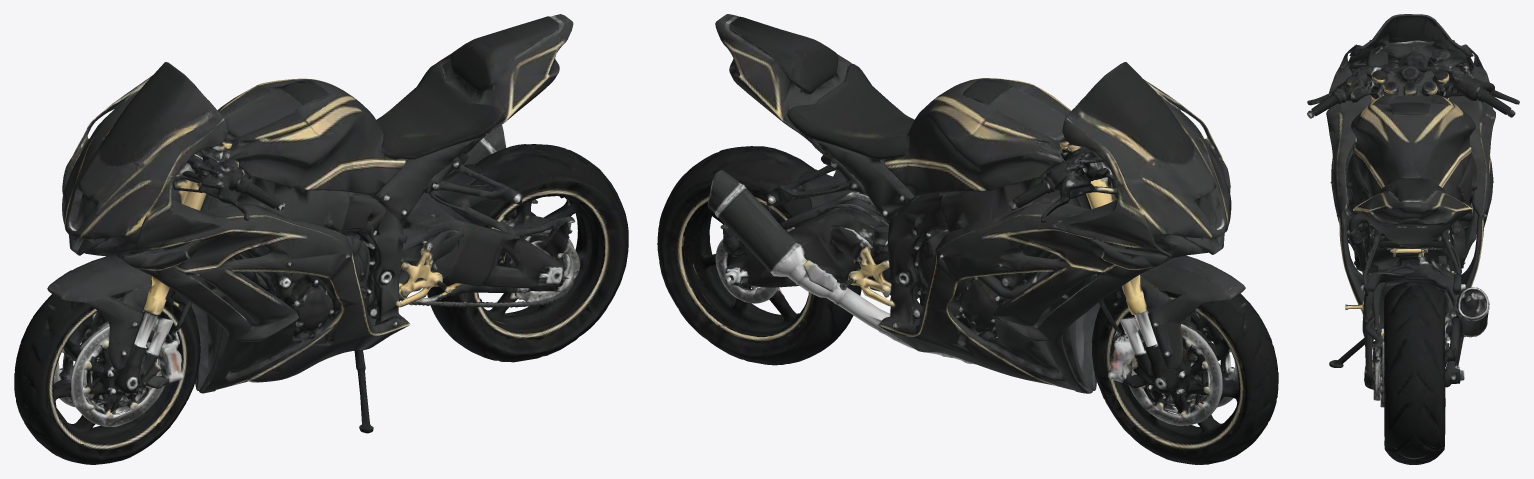
Rendered from c1000rr-fundadores.glb.
3 views of the same model, side by side, from view 1: azimuth 30°, elevation 25°; view 2: azimuth 150°, elevation 25°; view 3: azimuth 270°, elevation 25° (orthographic). The views are drawn at different scales.
Bounding box in the file's own units: 1.9 × 1.12 × 0.7124.
Materials: 1 (1 with a texture image).
